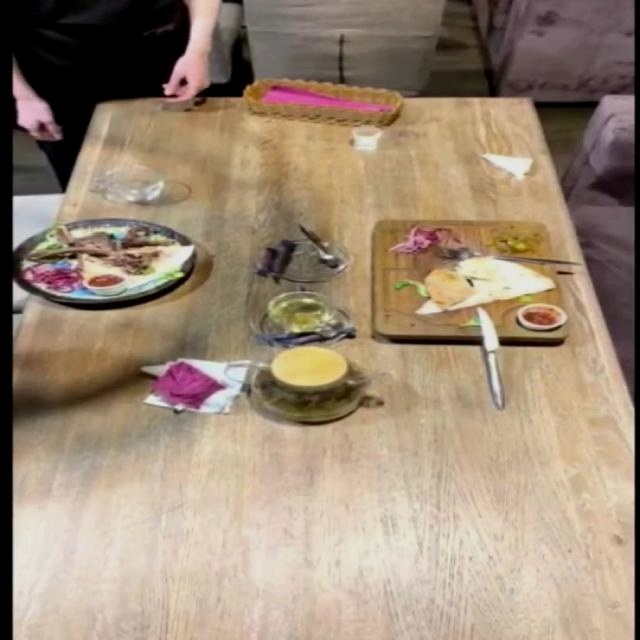meat: (368, 218, 568, 342), (0, 215, 200, 328)
tea: (211, 334, 383, 434)
